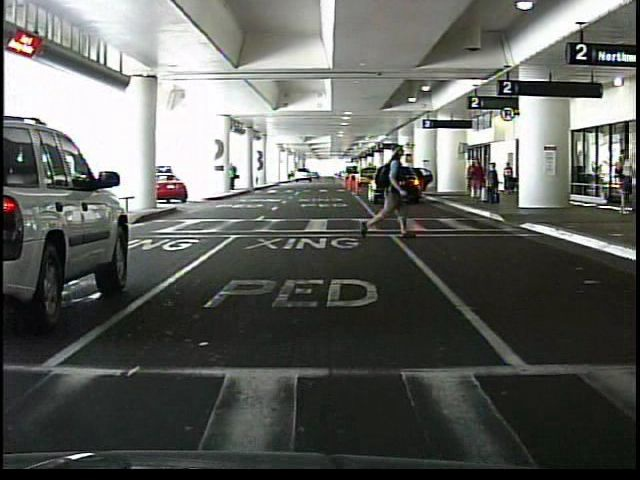person: (363, 144, 420, 240), (464, 159, 487, 203), (615, 150, 630, 214), (487, 162, 500, 204), (503, 163, 513, 192), (230, 164, 240, 192)
